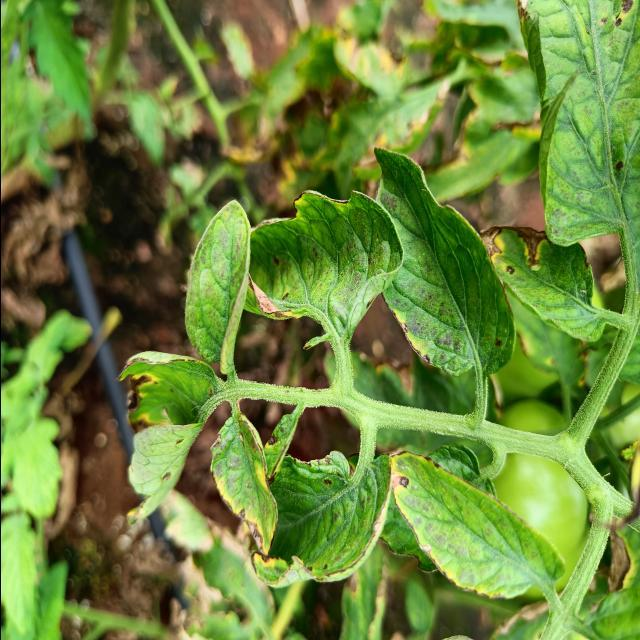Tomato mosaic virus leaf: (478, 219, 594, 337), (209, 415, 278, 563), (379, 442, 441, 522)
